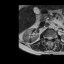CCS_stenosis: (48, 35, 50, 41)
LFS_stenosis: (52, 35, 54, 39)
LLS_normal: (50, 35, 52, 40)
RFS_stenosis: (45, 36, 47, 39)
RLS_stenosis: (47, 35, 48, 40)
